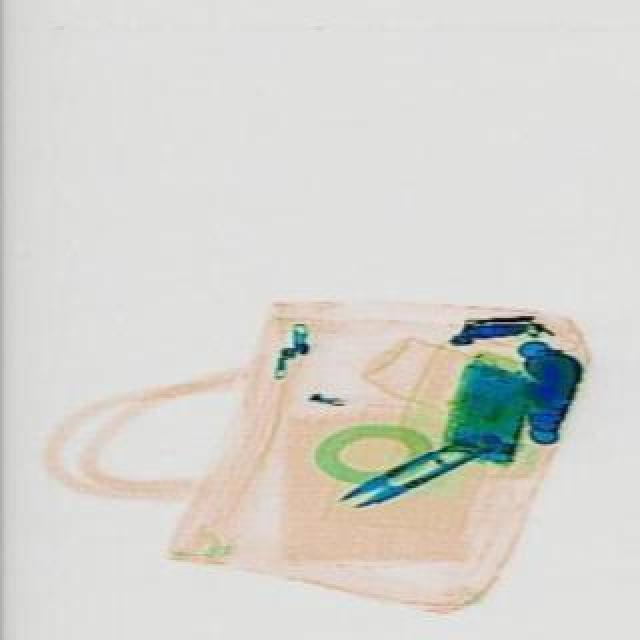pliers: (330, 418, 500, 518)
